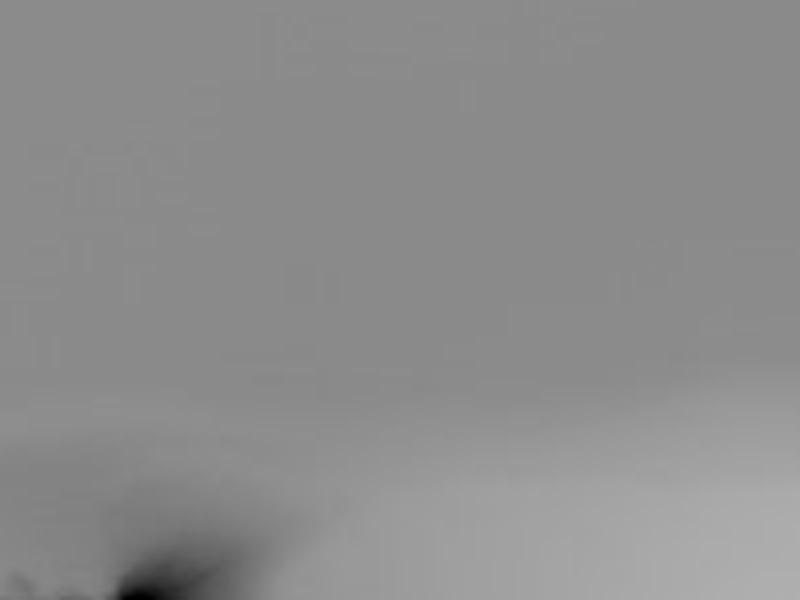defect: (118, 576, 199, 600)
